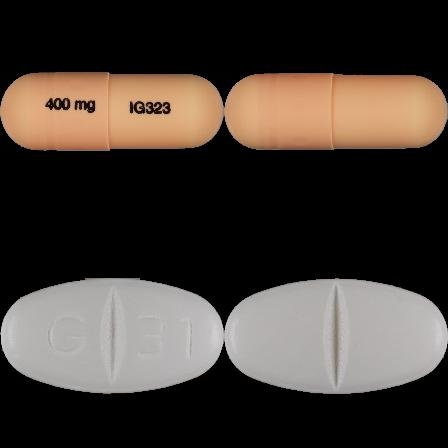63187-056: (0, 0, 224, 224)
